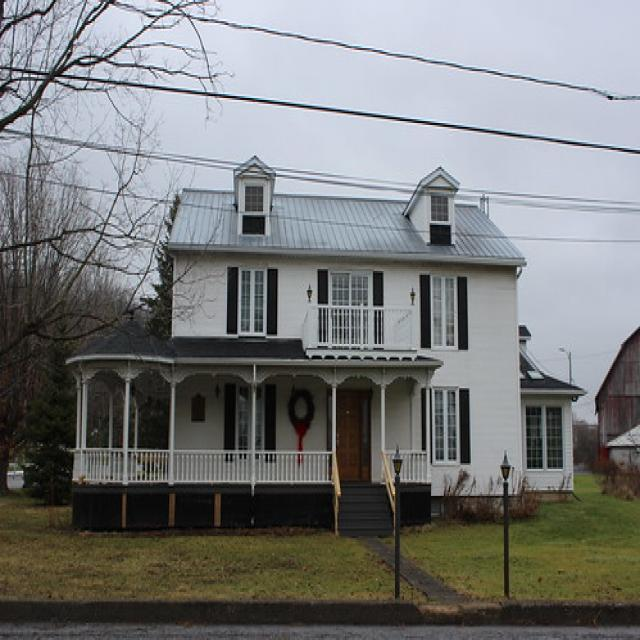Normal_building: (58, 153, 581, 539)
